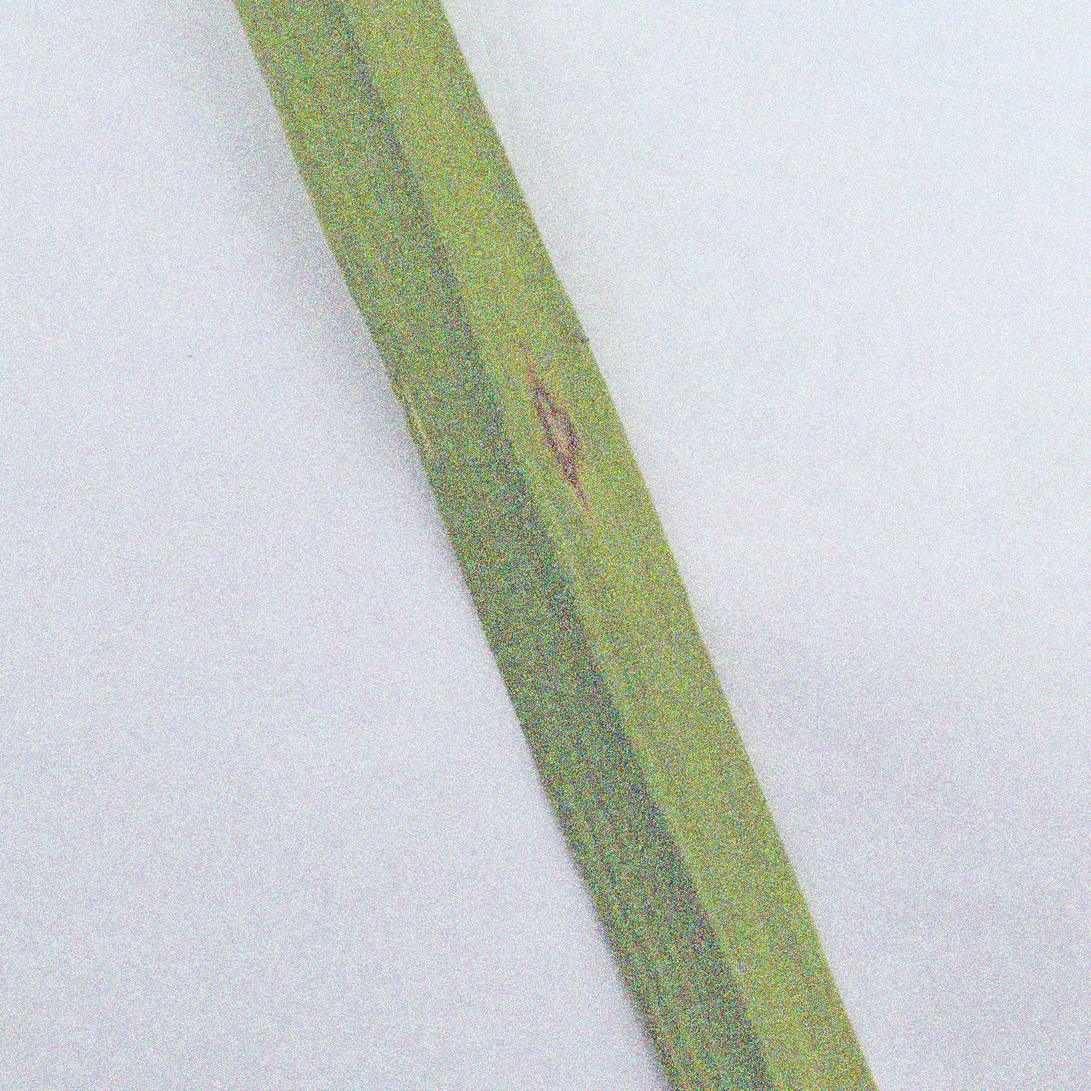Brown_Spot: (498, 321, 609, 503)
